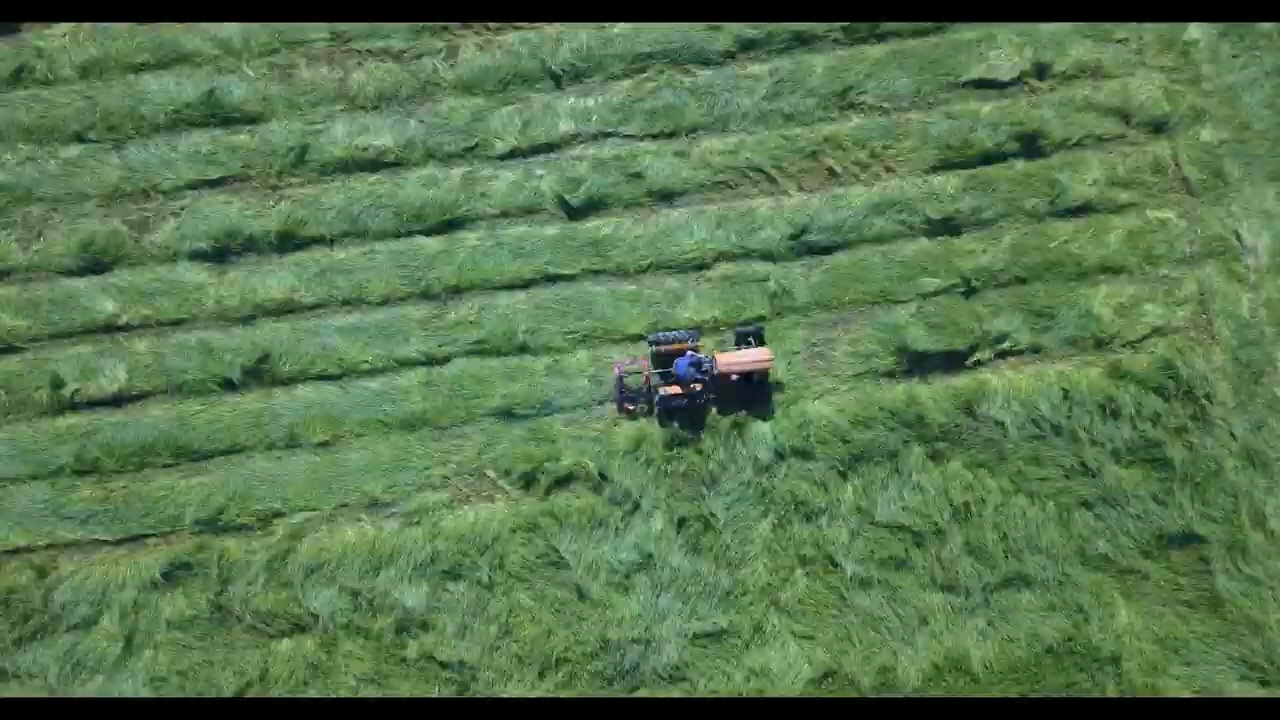insan: (673, 350, 711, 384)
traktor: (641, 324, 774, 427)
